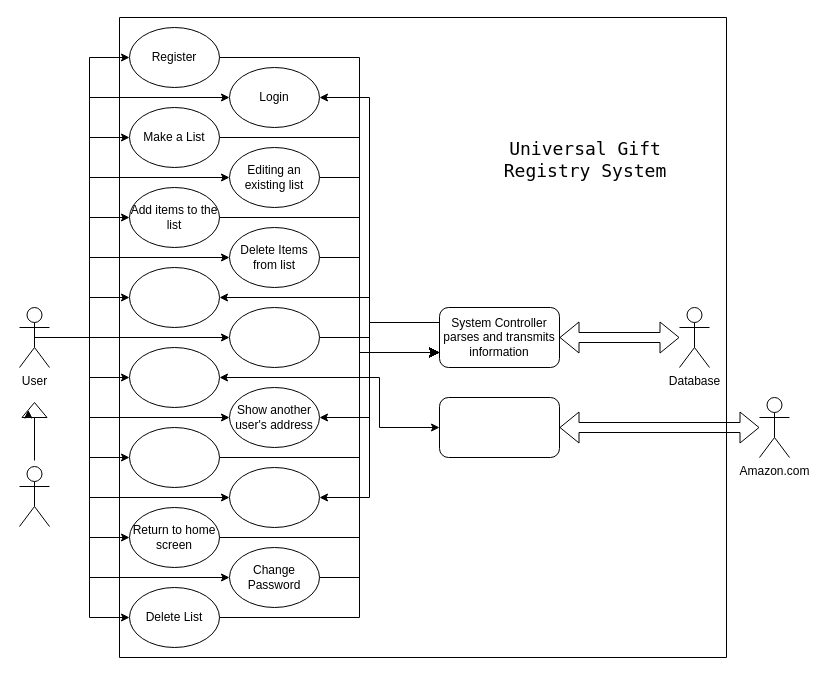
The diagram is 827 pixels wide and 675 high, and some of its shapes have lost their labels. The box of each missing label's shape, as (x1, y1, x2, y2) in pixels:
Admin: (18, 466, 50, 526)
Amazon.com handles all purchasing, searching, etc.: (438, 396, 560, 458)
Mark items as purchased: (128, 426, 220, 488)
Search for another User list: (128, 266, 220, 328)
Select another user's list: (228, 306, 320, 368)
Using WebView and Amazon.com: (128, 346, 220, 408)
View other list: (228, 466, 320, 528)
